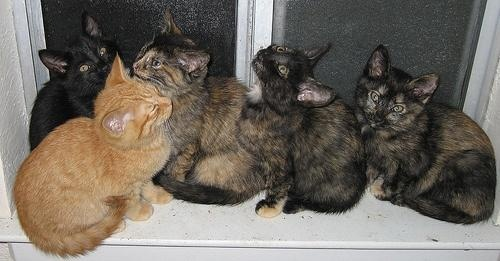cat: (13, 55, 174, 258), (353, 44, 497, 227), (134, 8, 267, 206), (251, 43, 370, 219), (28, 11, 125, 152)
